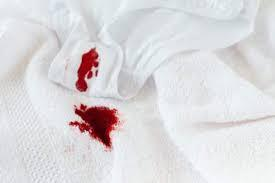blood: (73, 103, 119, 150), (78, 49, 97, 91)
